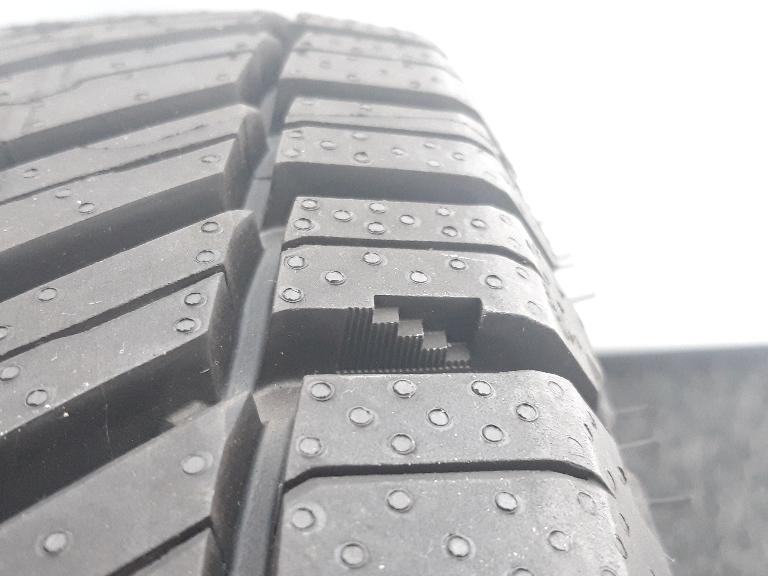temoin:100: (342, 288, 492, 378)
